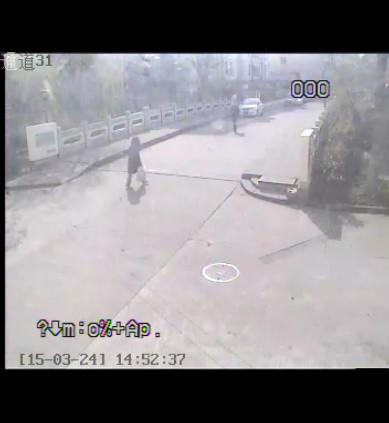person: (123, 136, 151, 191)
